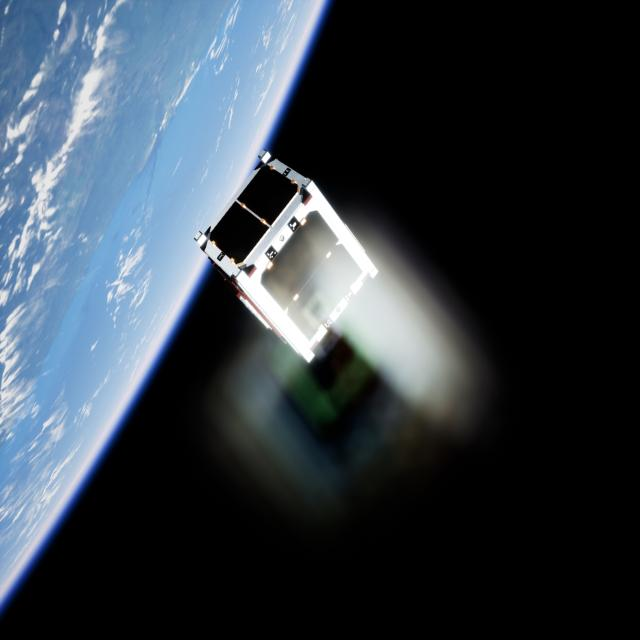satellite: (191, 152, 383, 364)
